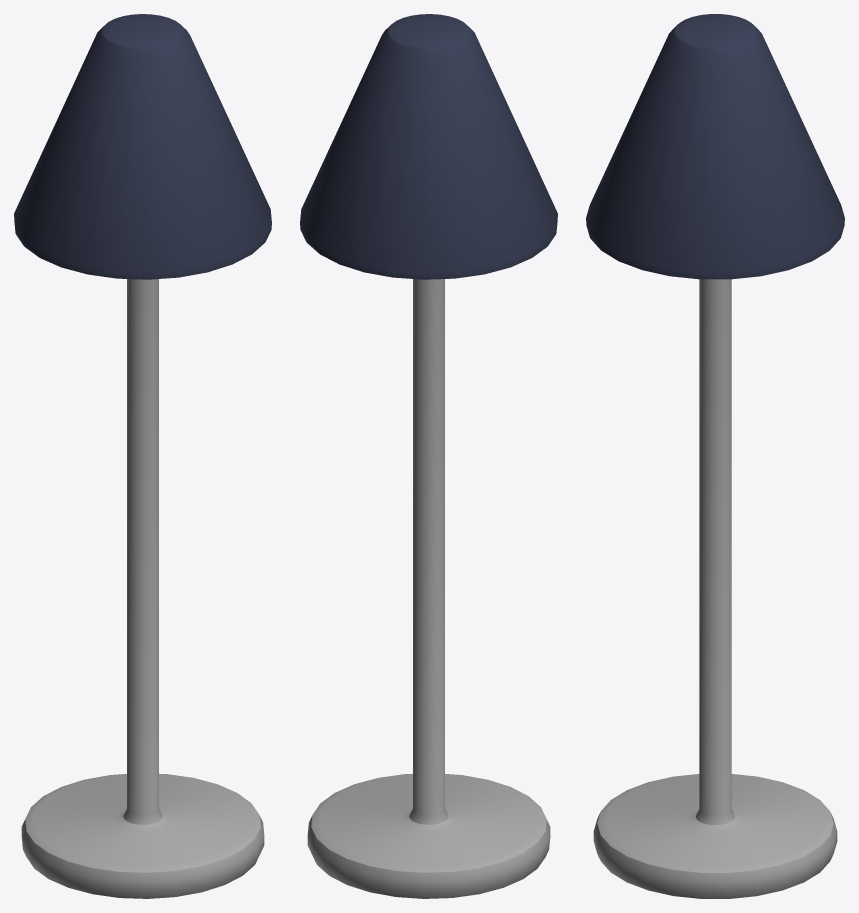
Rendered from Lamba.fbx.
3 views of the same model, side by side, from view 1: azimuth 30°, elevation 25°; view 2: azimuth 150°, elevation 25°; view 3: azimuth 270°, elevation 25° (orthographic).
Parts seen in each view (by area): view 1: Lamba; view 2: Lamba; view 3: Lamba.
Part boxes in pixels (bbox=[...]): Lamba: bbox=[14, 14, 271, 898]; Lamba: bbox=[300, 14, 557, 898]; Lamba: bbox=[586, 14, 844, 898].
Size of the model in its own units: 67.18 by 237 by 67.67.
